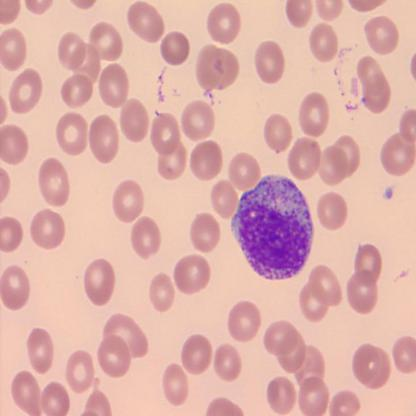Myelocyte: (229, 172, 315, 282)
